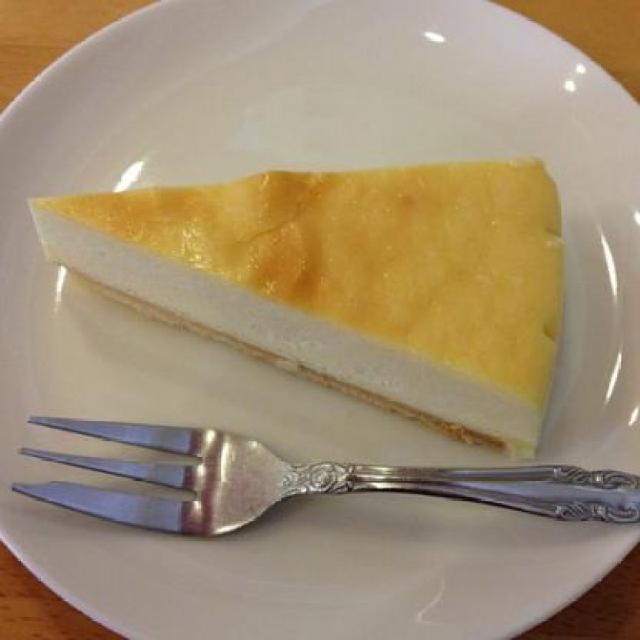Rare cheese cake: (6, 131, 591, 484)
